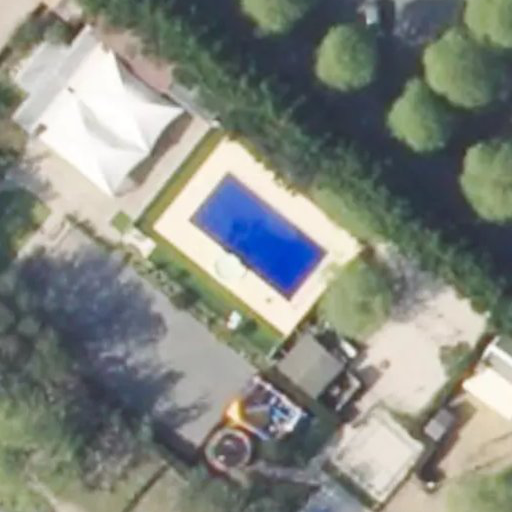pool: (182, 224, 329, 259)
